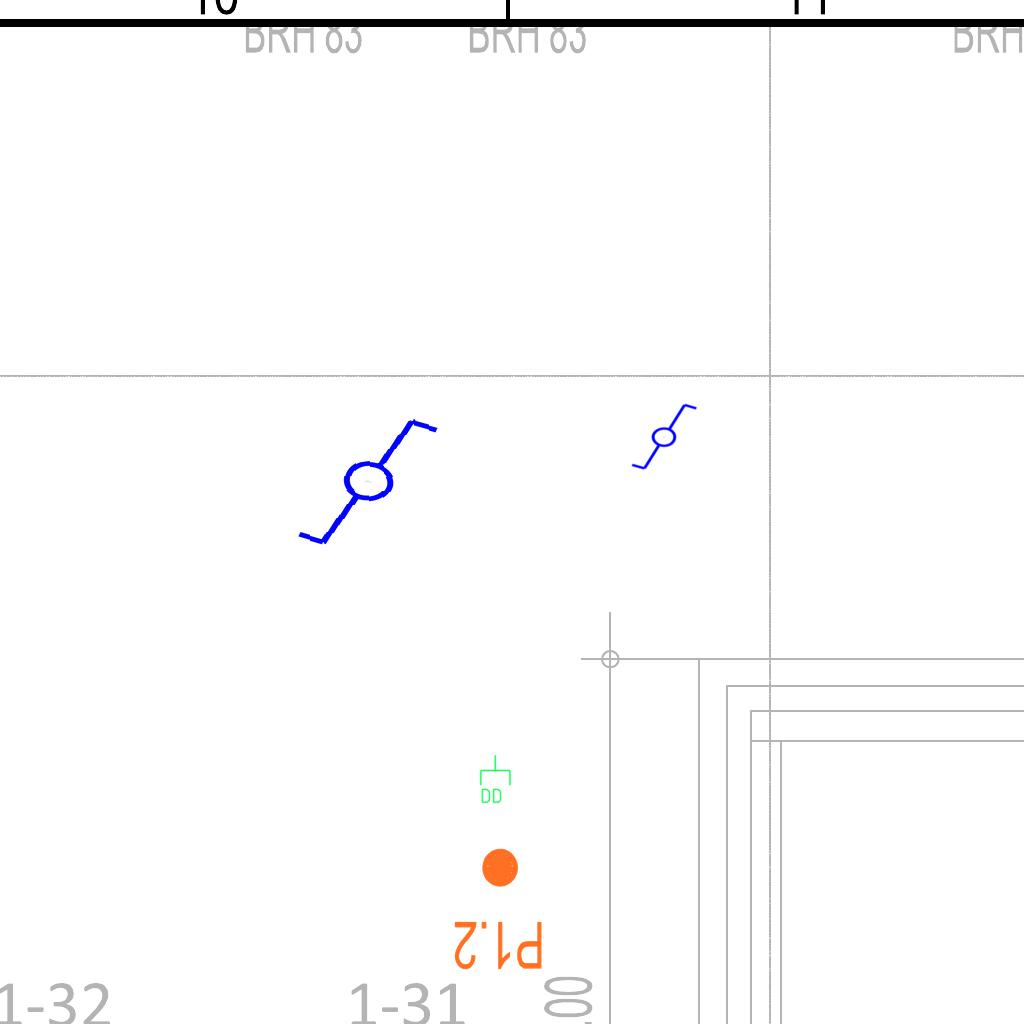Datenanschluss_zweifach: (478, 754, 512, 805)
Downlight_LED_Einbauleuchten_Flur: (452, 845, 545, 973)
Wechselschalter: (293, 406, 460, 562), (621, 400, 699, 472)
